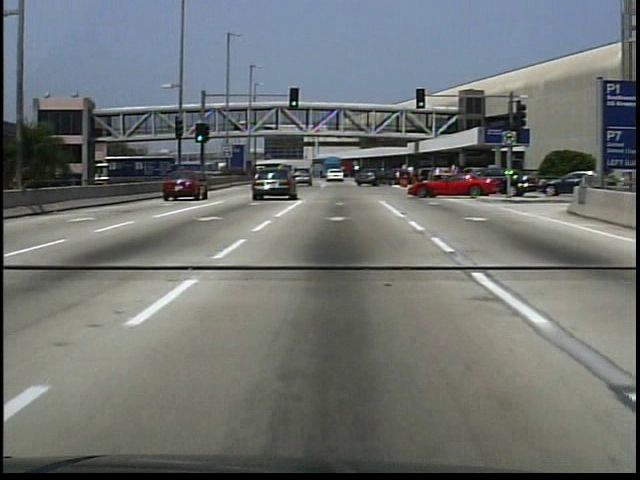person: (406, 164, 419, 188), (233, 120, 242, 135), (435, 168, 442, 181)
